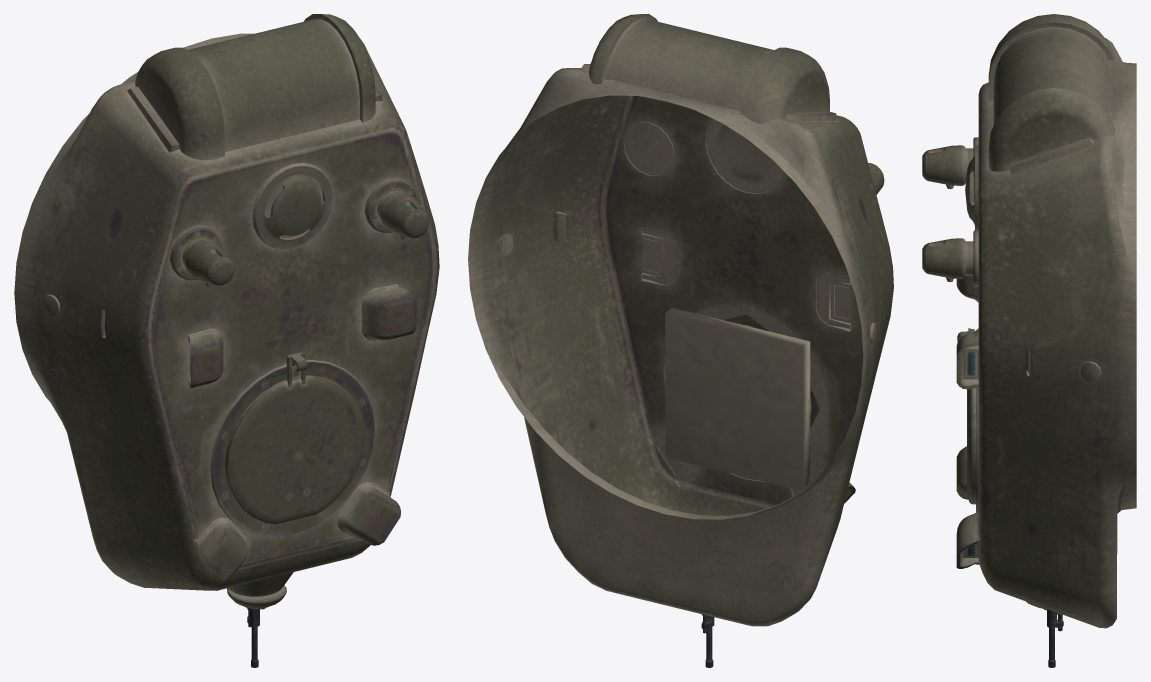
Rendered from Turret_01.glb.
3 views of the same model, side by side, from view 1: azimuth 30°, elevation 25°; view 2: azimuth 150°, elevation 25°; view 3: azimuth 270°, elevation 25° (orthographic). The views are drawn at different scales.
Visible parts, largest first — view 1: set_0_group_0; view 2: set_0_group_0; view 3: set_0_group_0.
Part boxes in pixels (x1=…): set_0_group_0: x1=14, y1=14, x2=439, y2=667; set_0_group_0: x1=468, y1=14, x2=893, y2=667; set_0_group_0: x1=922, y1=14, x2=1136, y2=667.
Bounding box in the file's own units: 1.72 × 2.62 × 0.8298.
1 material, 1 textured.
